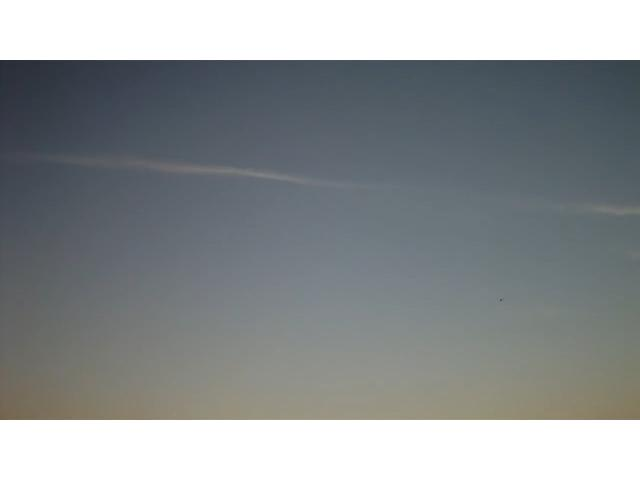Anti-Drone: (492, 290, 514, 310)
